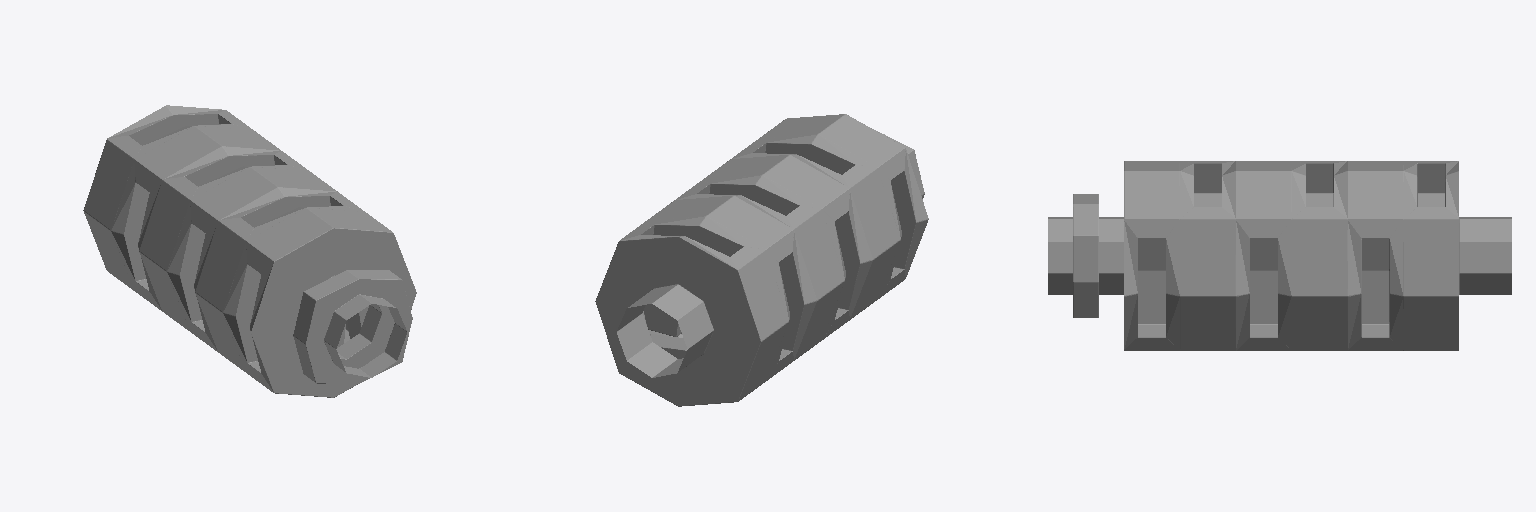
The model's file is EngineMiddle03.obj.
The picture shows the model from 3 angles: view 1: azimuth 30°, elevation 25°; view 2: azimuth 150°, elevation 25°; view 3: azimuth 270°, elevation 25°; orthographic projection.
Parts seen in each view (by area): view 1: EngineBody03_Cylinder.002; view 2: EngineBody03_Cylinder.002; view 3: EngineBody03_Cylinder.002.
Part boxes in pixels (x1,y1,x2,y2): EngineBody03_Cylinder.002: (83, 105, 416, 397); EngineBody03_Cylinder.002: (595, 114, 928, 406); EngineBody03_Cylinder.002: (1048, 161, 1511, 350).
Size of the model in its own units: 1.48 by 1.45 by 3.58.